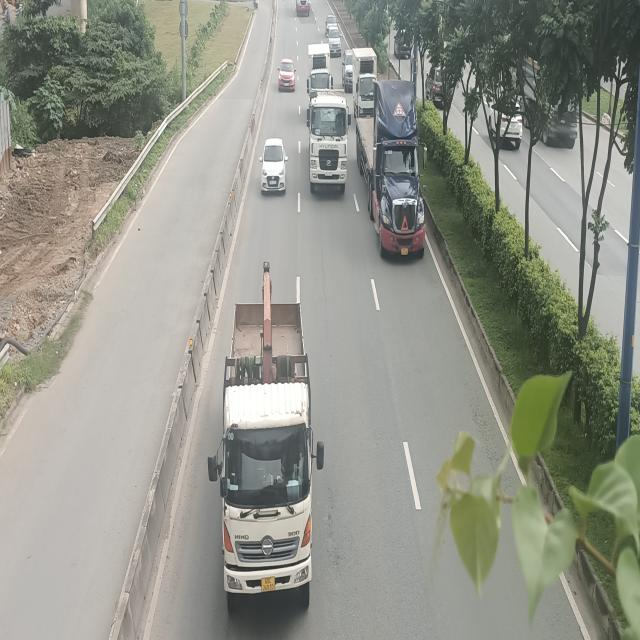car: (260, 137, 287, 190), (278, 58, 296, 92), (341, 49, 353, 91), (328, 27, 341, 57)
container: (356, 79, 427, 257), (307, 90, 350, 192)
truck: (206, 300, 325, 604), (306, 42, 334, 88)
